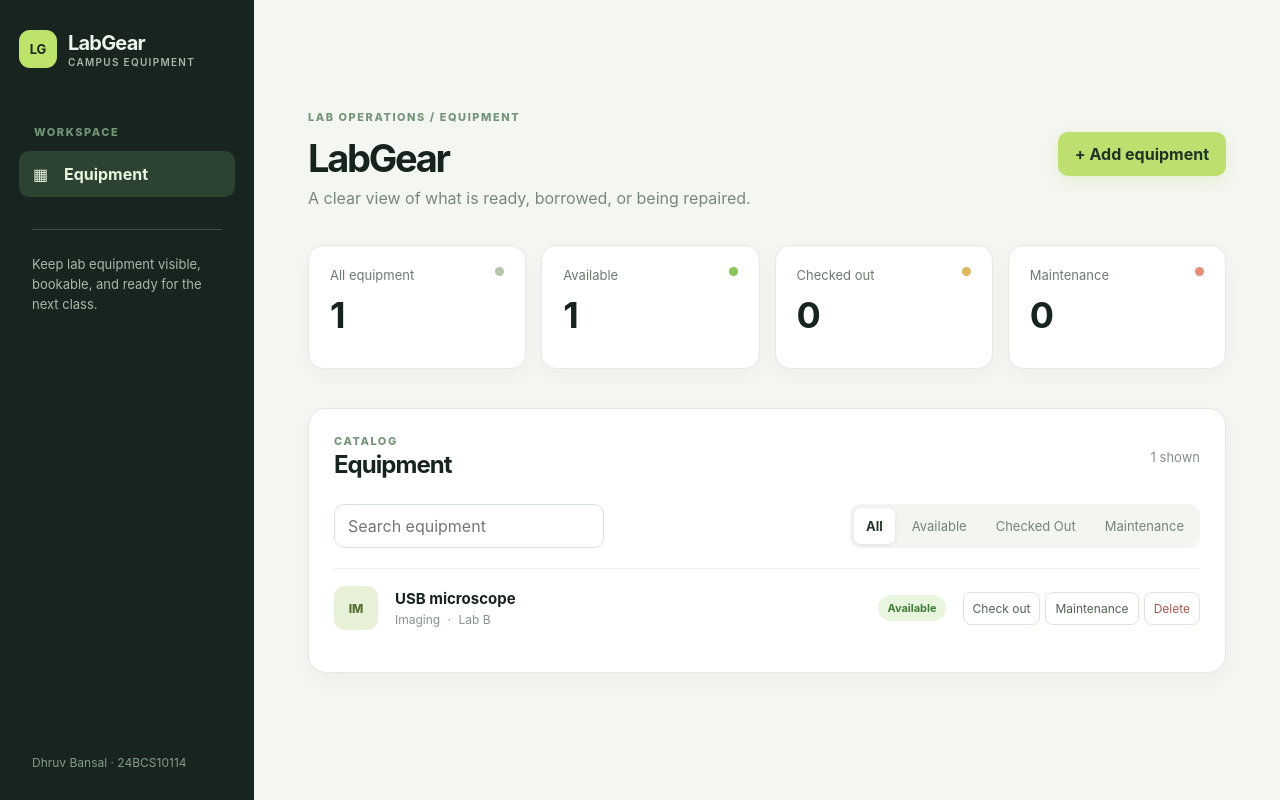
creates equipment from the form and refreshes the catalog
Expected: the heading "USB microscope" is shown, [395,589,516,608]
Click the button "+ Add equipment" at (1142, 154), box [1058,132,1226,176]
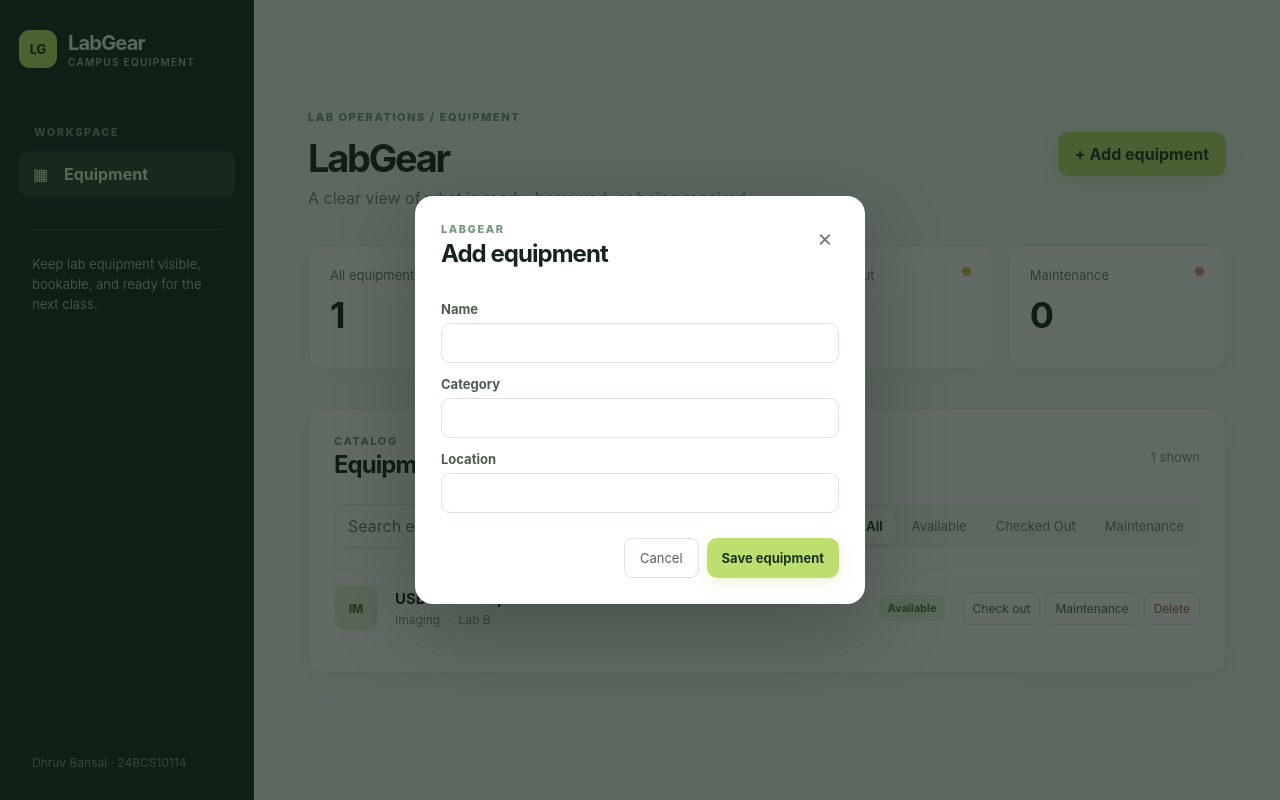
Type "Thermal camera" into the field labelled "Name" at (640, 343), box [441,323,839,363]
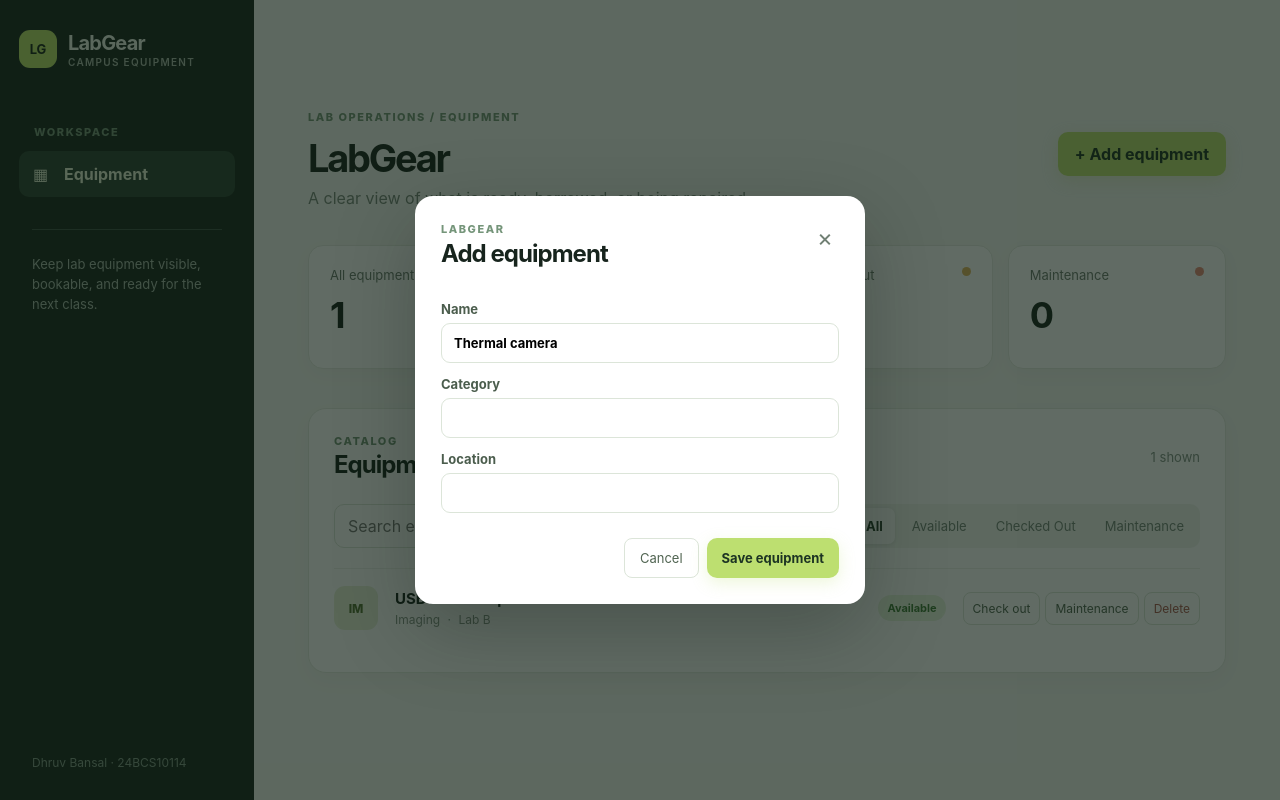
Type "Imaging" into the field labelled "Category" at (640, 418), box [441,398,839,438]
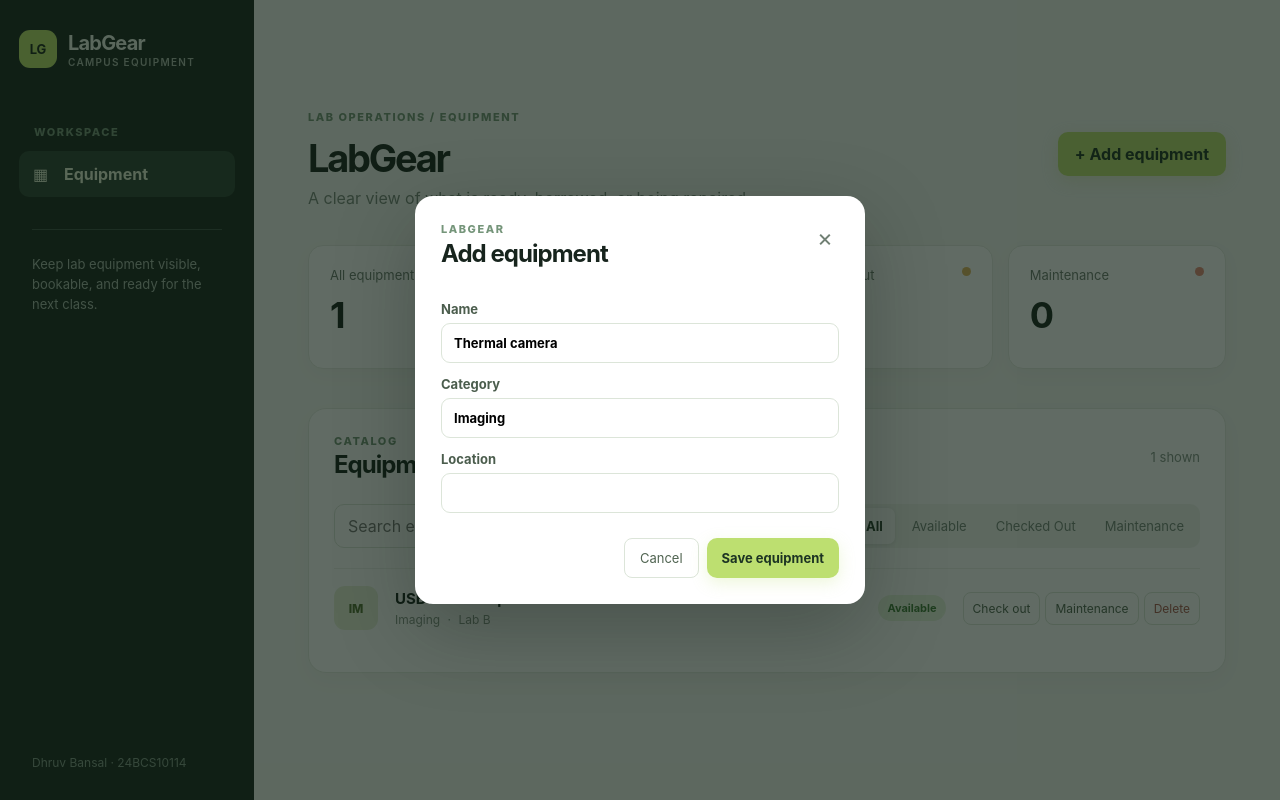
Type "Lab C" into the field labelled "Location" at (640, 493), box [441,473,839,513]
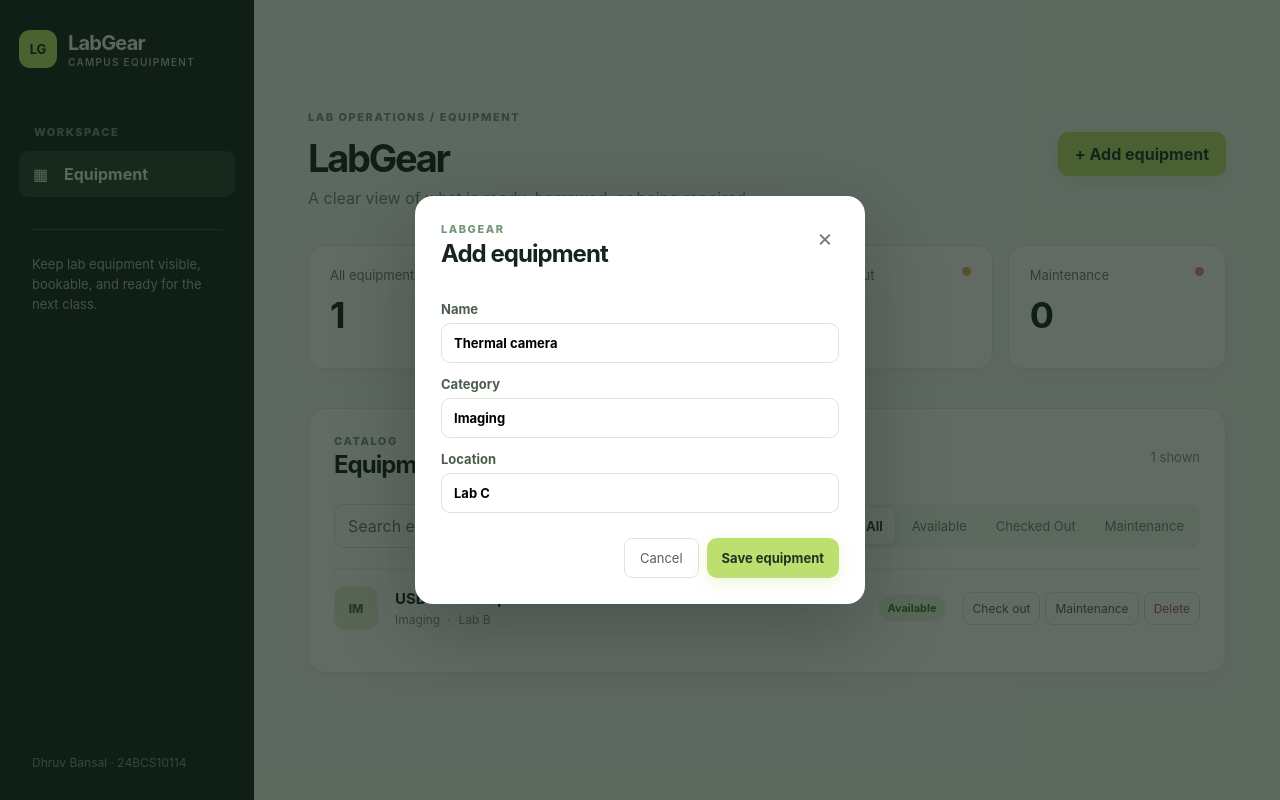
Click the button "Save equipment" at (773, 558), box [707,538,839,578]
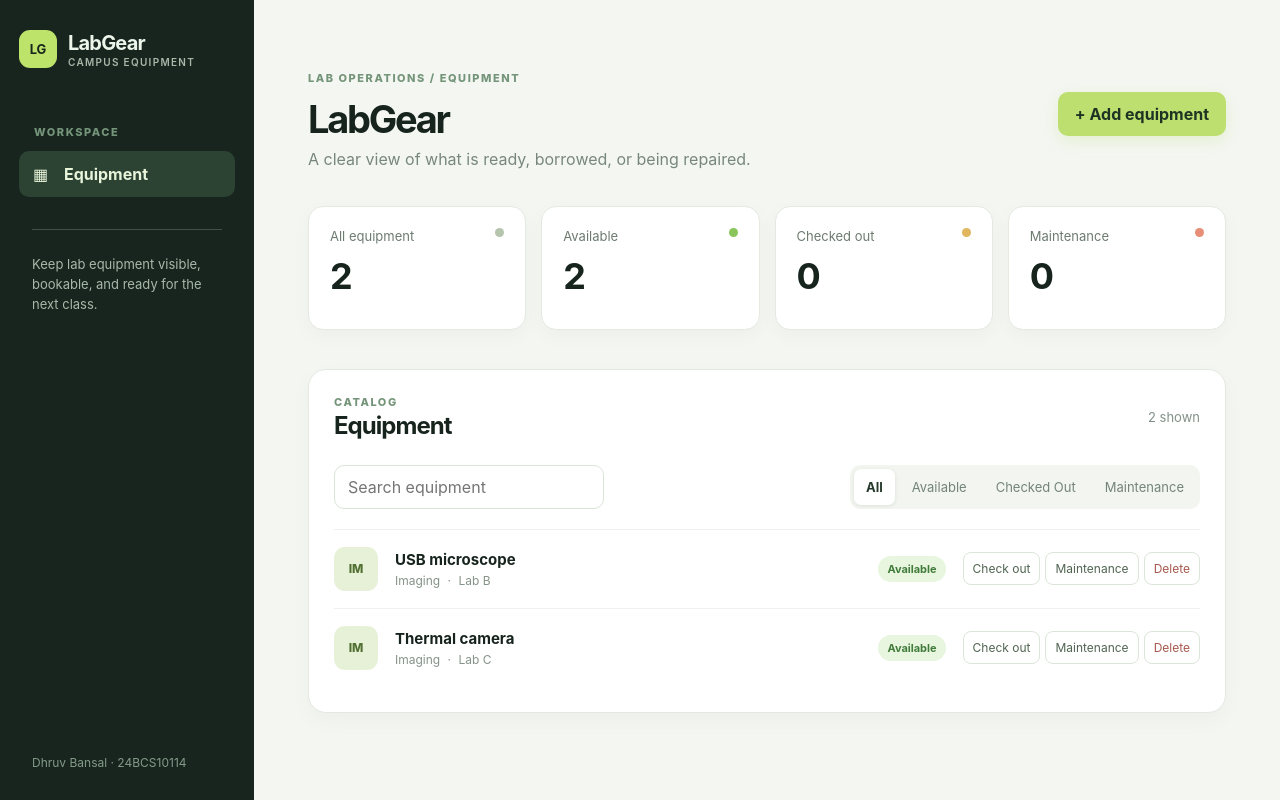
Expected: the heading "Thermal camera" is shown, [395,628,514,648]
